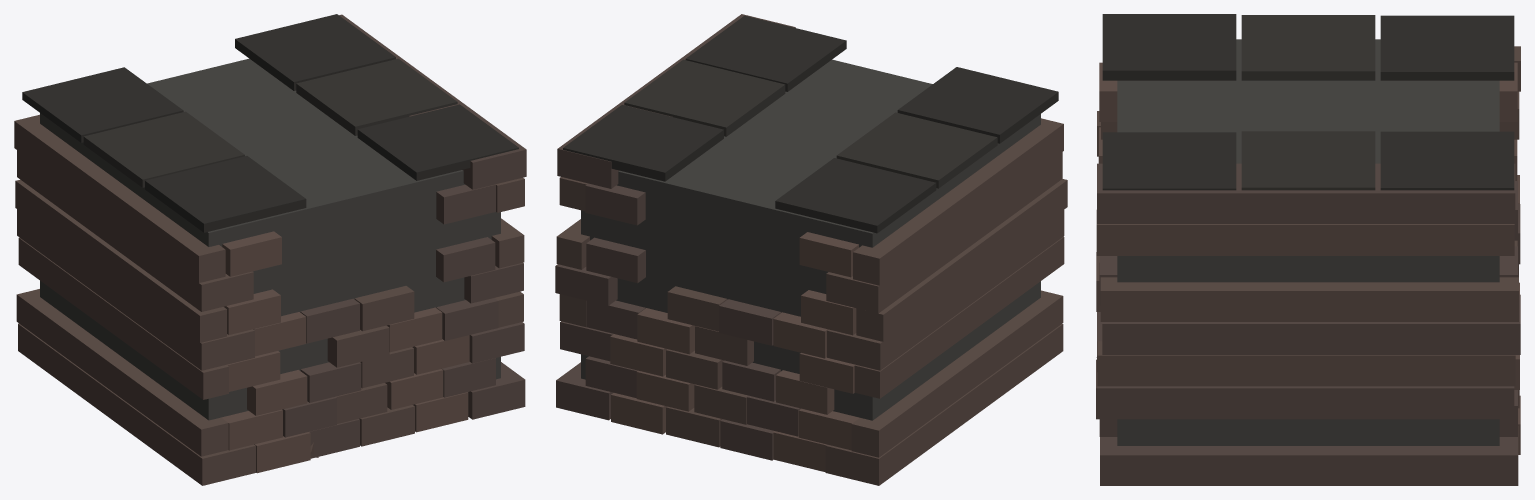
The model's file is wall_brick_dmg_a.glb.
3 views of the same model, side by side, from view 1: azimuth 30°, elevation 25°; view 2: azimuth 150°, elevation 25°; view 3: azimuth 270°, elevation 25° (orthographic). The views are drawn at different scales.
Visible parts, largest first — view 1: WallBrickDamaged; view 2: WallBrickDamaged; view 3: WallBrickDamaged.
Boxes of the visible parts, x1=… form: WallBrickDamaged: x1=14, y1=14, x2=526, y2=485; WallBrickDamaged: x1=555, y1=14, x2=1067, y2=485; WallBrickDamaged: x1=1096, y1=14, x2=1520, y2=485.
Size of the model in its own units: 3.95 by 3.05 by 3.92.
